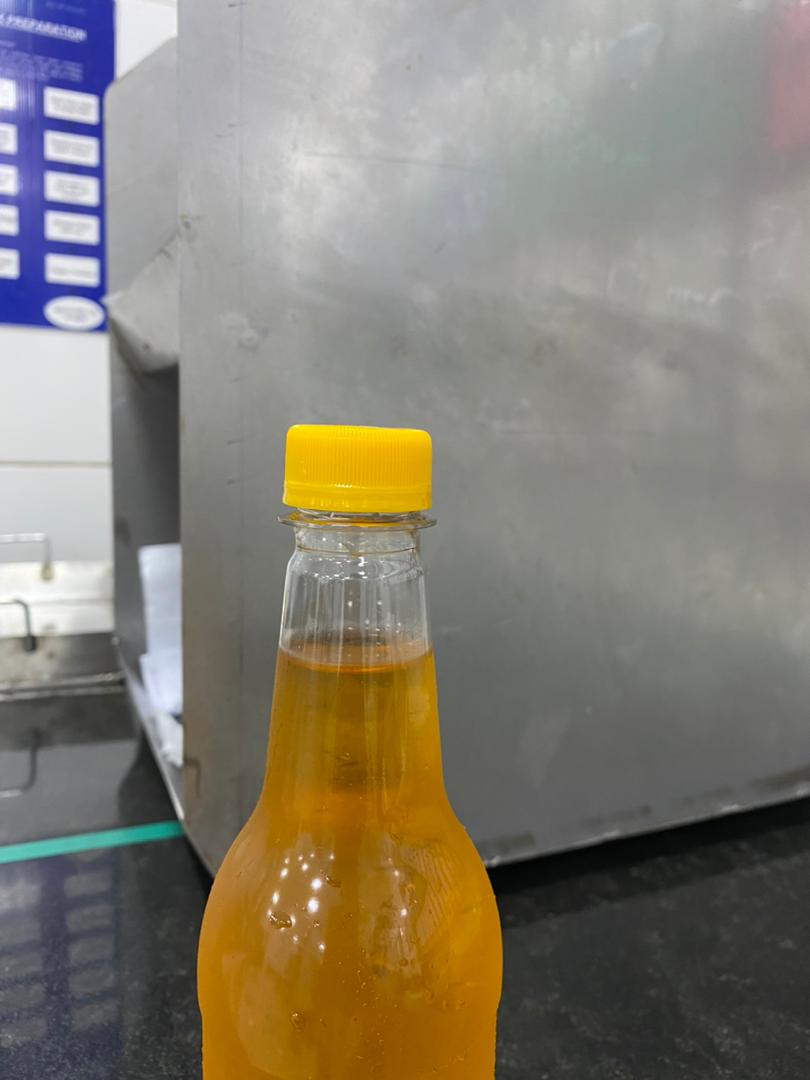Good Cap: (195, 387, 543, 583)
